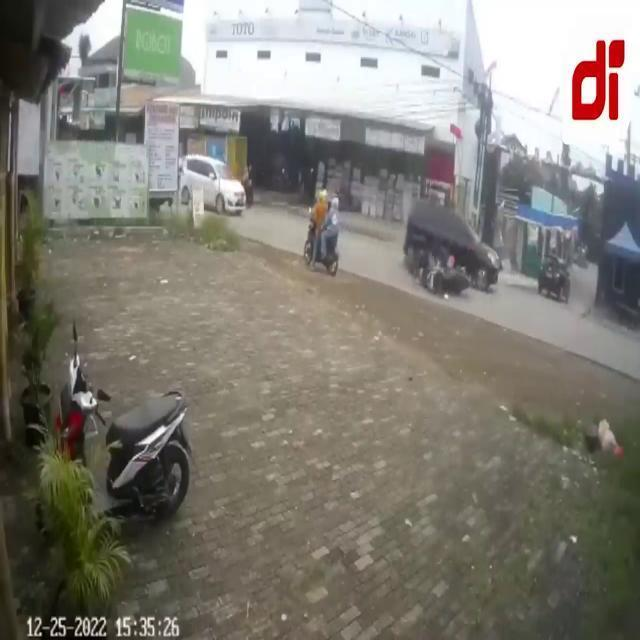accident: (402, 199, 502, 301)
